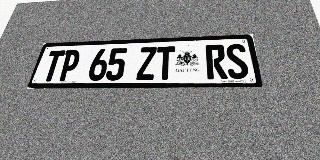5: (105, 48, 127, 81)
6: (87, 49, 110, 81)
P: (57, 50, 82, 81)
R: (205, 44, 228, 79)
S: (225, 44, 250, 79)
T: (40, 50, 66, 81), (155, 46, 175, 80)
Z: (136, 47, 157, 80)
